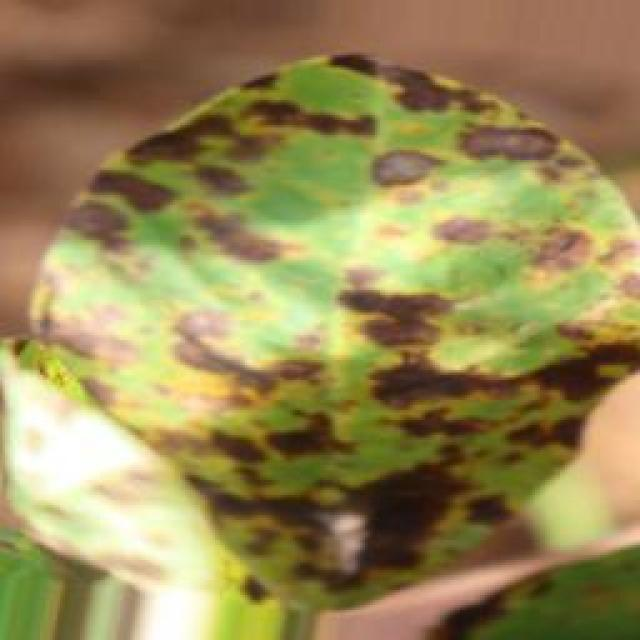Yellowish: (59, 41, 632, 578)
